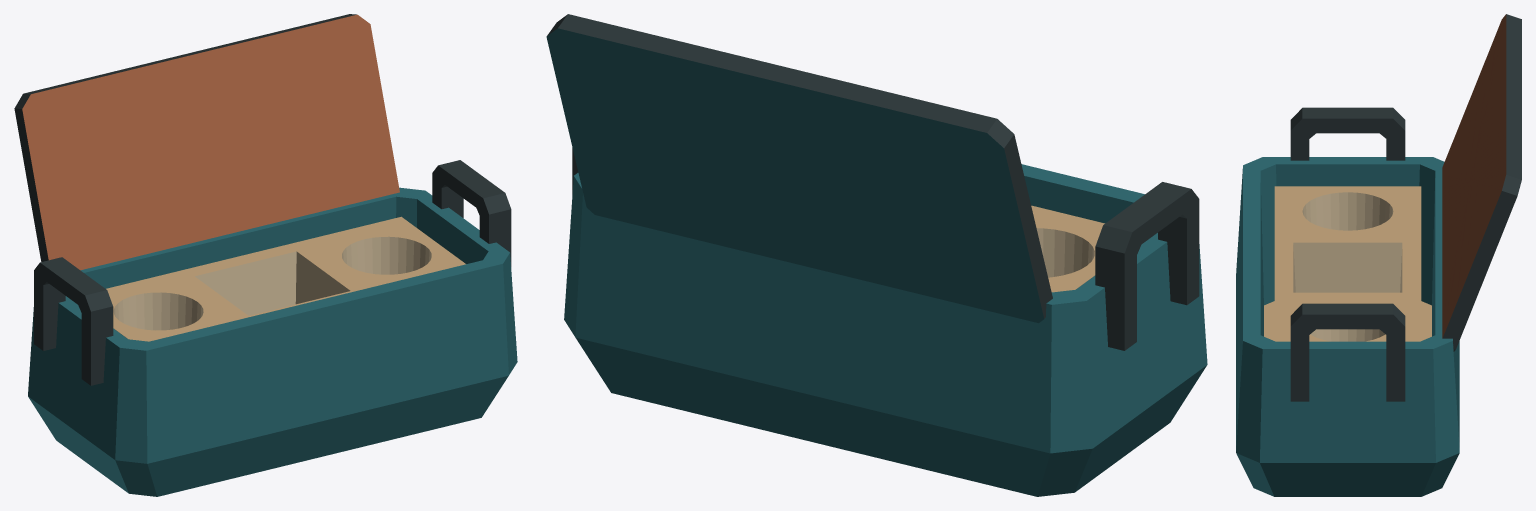
3 renders of one model, left to right at view 1: azimuth 30°, elevation 25°; view 2: azimuth 150°, elevation 25°; view 3: azimuth 270°, elevation 25°, orthographic. The views are drawn at different scales.
Parts seen in each view (by area): view 1: Bag_ThickOpenShell, Lid_FixedRaisedRear, Insert_ContinuousThreeBottomedRecesses, Loop_LeftShortOpenHandle, Loop_RightShortOpenHandle; view 2: Bag_ThickOpenShell, Lid_FixedRaisedRear, Loop_LeftShortOpenHandle, Insert_ContinuousThreeBottomedRecesses; view 3: Bag_ThickOpenShell, Insert_ContinuousThreeBottomedRecesses, Lid_FixedRaisedRear, Loop_RightShortOpenHandle, Loop_LeftShortOpenHandle.
Boxes of the visible parts, x1,y1,x2,y2 form: Bag_ThickOpenShell: [28, 187, 517, 496]; Lid_FixedRaisedRear: [14, 14, 399, 270]; Insert_ContinuousThreeBottomedRecesses: [106, 216, 465, 341]; Loop_LeftShortOpenHandle: [34, 257, 113, 385]; Loop_RightShortOpenHandle: [432, 160, 511, 266]; Bag_ThickOpenShell: [564, 164, 1207, 496]; Lid_FixedRaisedRear: [546, 14, 1052, 323]; Loop_LeftShortOpenHandle: [1095, 182, 1199, 350]; Insert_ContinuousThreeBottomedRecesses: [1031, 205, 1104, 292]; Bag_ThickOpenShell: [1236, 157, 1459, 496]; Insert_ContinuousThreeBottomedRecesses: [1274, 186, 1421, 341]; Lid_FixedRaisedRear: [1442, 14, 1521, 351]; Loop_RightShortOpenHandle: [1290, 303, 1405, 401]; Loop_LeftShortOpenHandle: [1290, 107, 1405, 160].
Bounding box in the file's own units: 0.7 × 0.4954 × 0.4088.
